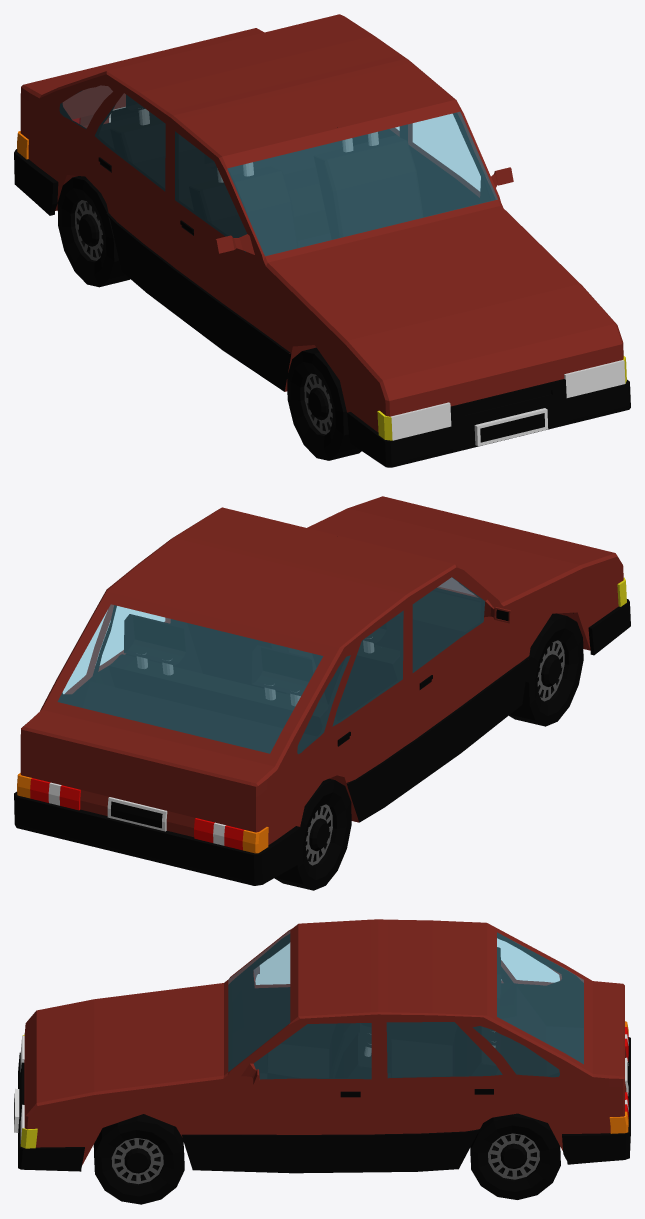
File: escort.glb
The picture shows the model from 3 angles, top to bottom: view 1: azimuth 30°, elevation 25°; view 2: azimuth 150°, elevation 25°; view 3: azimuth 270°, elevation 25°; orthographic projection. The views are drawn at different scales.
Parts seen in each view (by area): view 1: ARMAZON, asiento adelante, asiento trasero, rueda_delantera_der, INTERIOR, rueda_trasera_der, baul; view 2: ARMAZON, baul, INTERIOR, asiento trasero, asiento adelante, rueda_delantera_der, rueda_trasera_der; view 3: ARMAZON, INTERIOR, baul, rueda_delantera_izq, rueda_trasera_izq, asiento adelante, asiento trasero.
Boxes of the visible parts, <box> form: ARMAZON: <box>14,14,630,467</box>; asiento adelante: <box>189,132,423,255</box>; asiento trasero: <box>110,95,342,240</box>; rueda_delantera_der: <box>287,347,361,460</box>; INTERIOR: <box>59,91,495,256</box>; rueda_trasera_der: <box>57,176,130,287</box>; baul: <box>28,29,258,119</box>; ARMAZON: <box>14,496,630,885</box>; baul: <box>27,598,331,830</box>; INTERIOR: <box>58,577,573,753</box>; asiento trasero: <box>108,614,337,736</box>; asiento adelante: <box>187,623,399,721</box>; rueda_delantera_der: <box>509,613,583,726</box>; rueda_trasera_der: <box>274,778,351,890</box>; ARMAZON: <box>14,919,630,1173</box>; INTERIOR: <box>228,932,583,1079</box>; baul: <box>492,927,624,1075</box>; rueda_delantera_izq: <box>93,1114,184,1204</box>; rueda_trasera_izq: <box>470,1113,560,1199</box>; asiento adelante: <box>266,1023,371,1078</box>; asiento trasero: <box>390,947,501,1077</box>.
Size of the model in its own units: 2.15 by 1.63 by 4.79.
